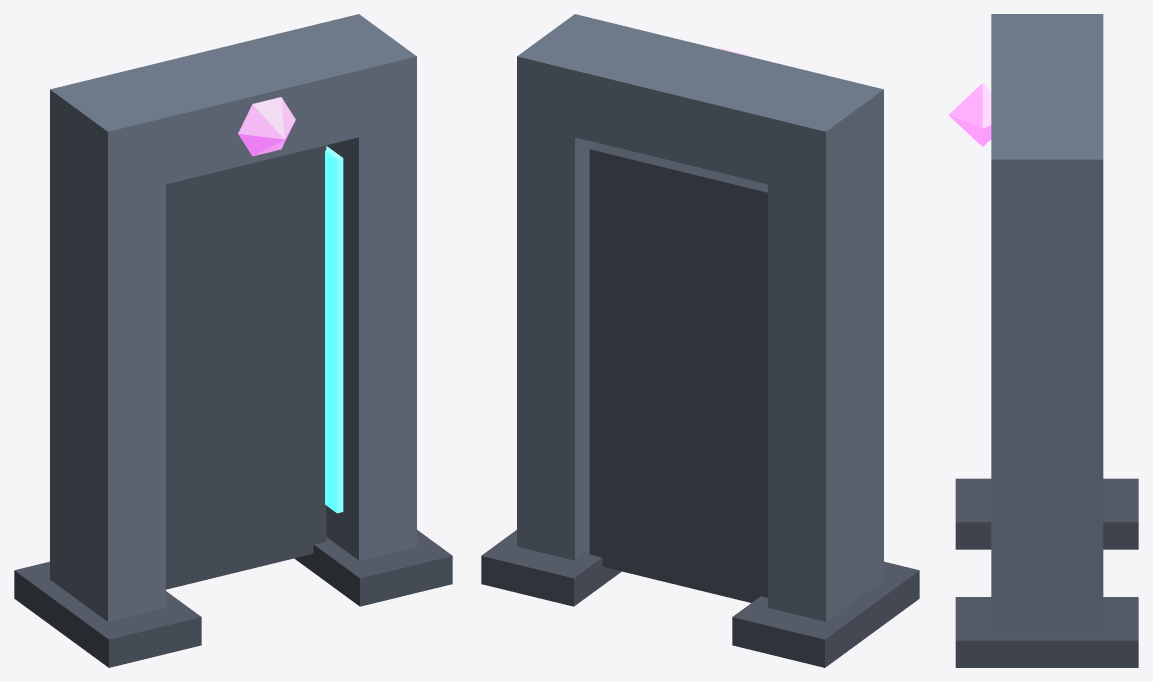
File: AXM-DOORWAY-001.glb
3 renders of one model, left to right at view 1: azimuth 30°, elevation 25°; view 2: azimuth 150°, elevation 25°; view 3: azimuth 270°, elevation 25°, orthographic. The views are drawn at different scales.
Visible parts, largest first — view 1: door, column__l00, top_beam, column__l01, foot__l00, energy_strip__l01, foot__l01, header_core; view 2: door, column__l00, top_beam, column__l01, foot__l00, foot__l01; view 3: column__l01, top_beam, foot__l01, foot__l00, header_core.
Boxes of the visible parts, x1,y1,x2,y2 form: door: [166, 145, 326, 589]; column__l00: [50, 123, 165, 621]; top_beam: [50, 14, 416, 198]; column__l01: [326, 90, 416, 560]; foot__l00: [14, 561, 201, 667]; energy_strip__l01: [325, 146, 343, 513]; foot__l01: [294, 530, 452, 606]; header_core: [238, 97, 295, 156]; door: [589, 143, 767, 602]; column__l00: [768, 123, 883, 621]; top_beam: [517, 14, 883, 196]; column__l01: [517, 90, 597, 560]; foot__l00: [732, 561, 919, 667]; foot__l01: [481, 530, 621, 606]; column__l01: [991, 191, 1103, 632]; top_beam: [991, 14, 1103, 223]; foot__l01: [955, 597, 1138, 667]; foot__l00: [955, 478, 1138, 549]; header_core: [948, 83, 991, 146].
Size of the model in its own units: 1.78 by 2.57 by 0.885.
